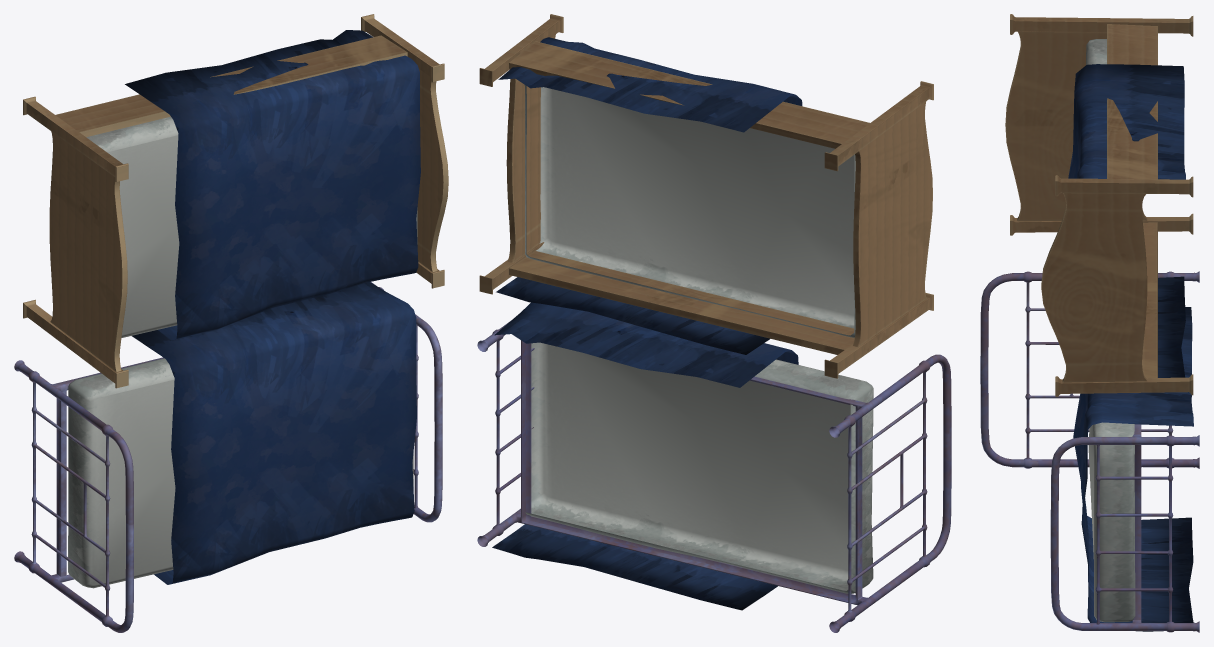
File: Camas.fbx
3 renders of one model, left to right at view 1: azimuth 30°, elevation 25°; view 2: azimuth 150°, elevation 25°; view 3: azimuth 270°, elevation 25°, orthographic. The views are drawn at different scales.
Parts seen in each view (by area): view 1: Cama3.007, Cama3.006, Cama2.001, CamaMetal.001; view 2: Cama3.007, Cama3.006, Cama2.001, CamaMetal.001; view 3: Cama2.001, Cama3.007, Cama3.006, CamaMetal.001.
Boxes of the visible parts, bbox=[...] form: Cama3.007: bbox=[68, 282, 416, 588]; Cama3.006: bbox=[86, 30, 420, 340]; Cama2.001: bbox=[23, 14, 448, 388]; CamaMetal.001: bbox=[14, 282, 442, 632]; Cama3.007: bbox=[492, 302, 873, 610]; Cama3.006: bbox=[496, 37, 855, 354]; Cama2.001: bbox=[479, 14, 933, 378]; CamaMetal.001: bbox=[477, 321, 951, 632]; Cama2.001: bbox=[1005, 14, 1193, 396]; Cama3.007: bbox=[1073, 307, 1193, 631]; Cama3.006: bbox=[1068, 39, 1185, 377]; CamaMetal.001: bbox=[980, 271, 1199, 632].
Bounding box in the file's own units: 182 × 232 × 99.47.
